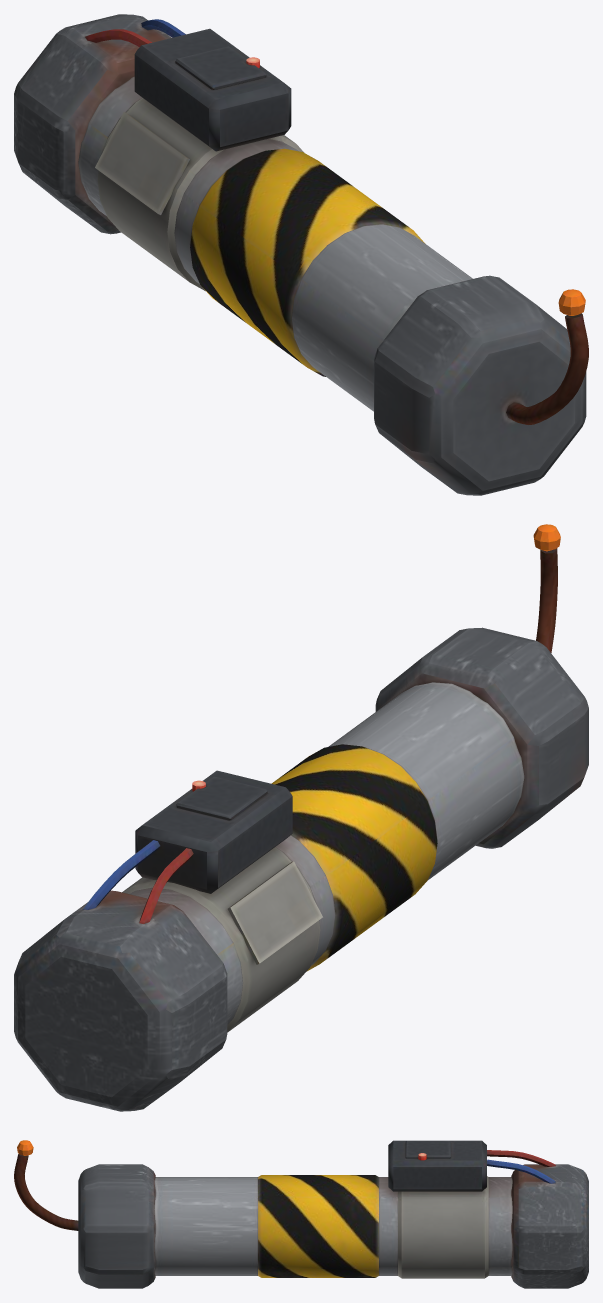
File: bomb.glb
3 renders of one model, top to bottom at view 1: azimuth 30°, elevation 25°; view 2: azimuth 150°, elevation 25°; view 3: azimuth 270°, elevation 25°, orthographic. The views are drawn at different scales.
Visible parts, largest first — view 1: bomb; view 2: bomb; view 3: bomb.
Part boxes in pixels (<box>): bomb: <box>14,14,588,495</box>; bomb: <box>14,524,588,1111</box>; bomb: <box>14,1140,588,1288</box>.
Size of the model in its own units: 0.0621 by 0.0833 by 0.304.
Materials: 10 (10 with a texture image).
